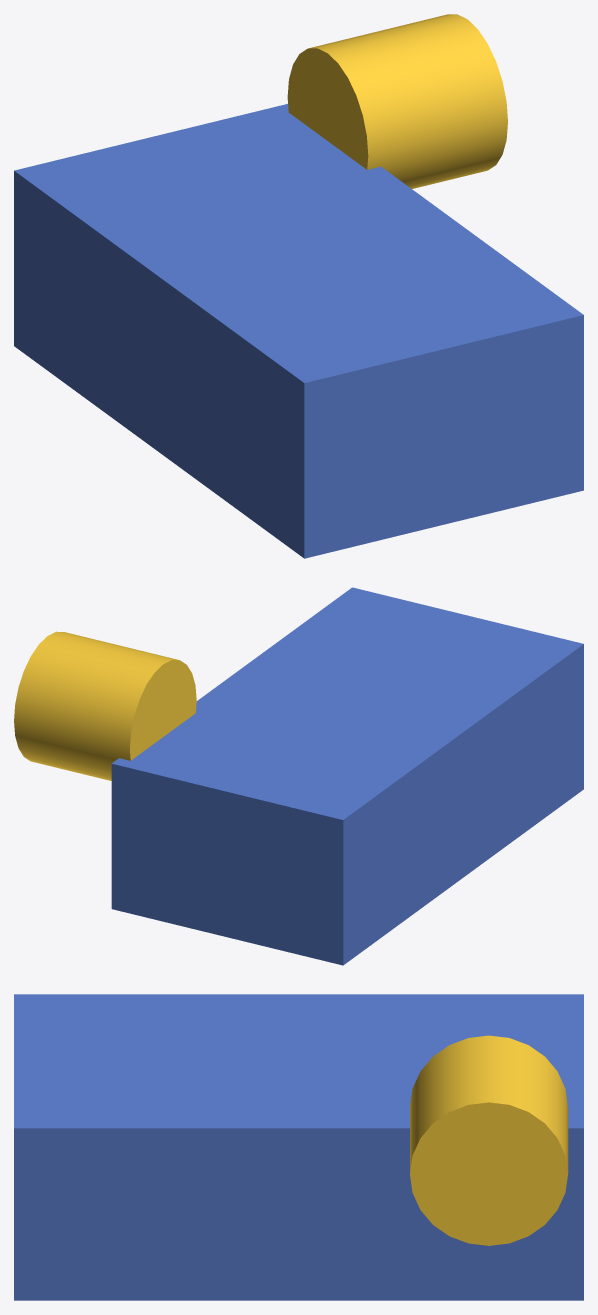
3 renders of one model, top to bottom at view 1: azimuth 30°, elevation 25°; view 2: azimuth 150°, elevation 25°; view 3: azimuth 270°, elevation 25°, orthographic. The views are drawn at different scales.
Parts seen in each view (by area): view 1: RA168E-block, turbocharger; view 2: RA168E-block, turbocharger; view 3: RA168E-block, turbocharger.
Boxes of the visible parts, left/top/right/bottom form: RA168E-block: left=14, top=104, right=583, bottom=558; turbocharger: left=287, top=14, right=507, bottom=188; RA168E-block: left=111, top=587, right=583, bottom=965; turbocharger: left=14, top=631, right=196, bottom=780; RA168E-block: left=14, top=994, right=583, bottom=1300; turbocharger: left=410, top=1035, right=568, bottom=1245.
Size of the model in its own units: 1.45 by 0.9 by 1.8.
